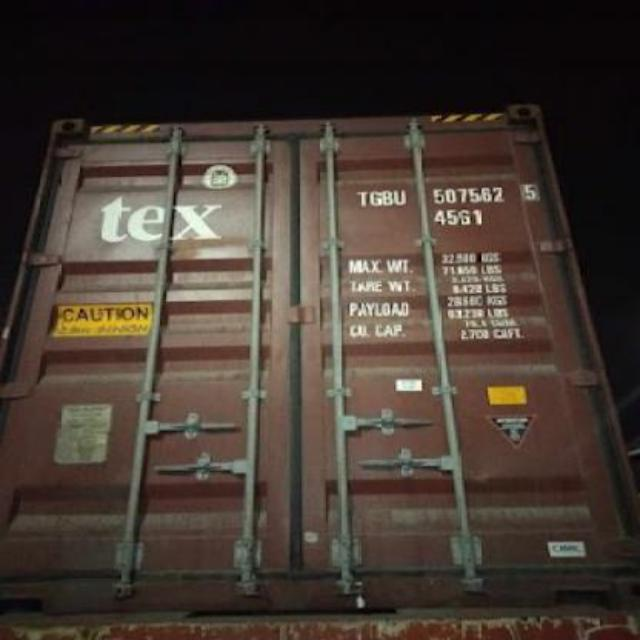0: (444, 184, 456, 206)
2: (492, 182, 506, 208)
5: (520, 180, 540, 204), (466, 181, 479, 207), (431, 183, 444, 207)
6: (480, 178, 492, 208)
7: (456, 182, 466, 208)
B: (380, 186, 392, 210)
G: (368, 186, 382, 214)
T: (356, 187, 368, 210)
U: (392, 184, 406, 208)
